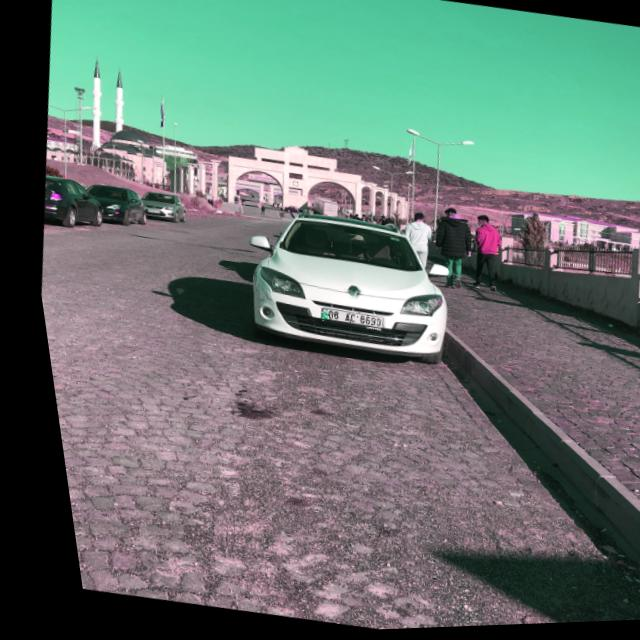license_plate: (310, 307, 375, 333)
